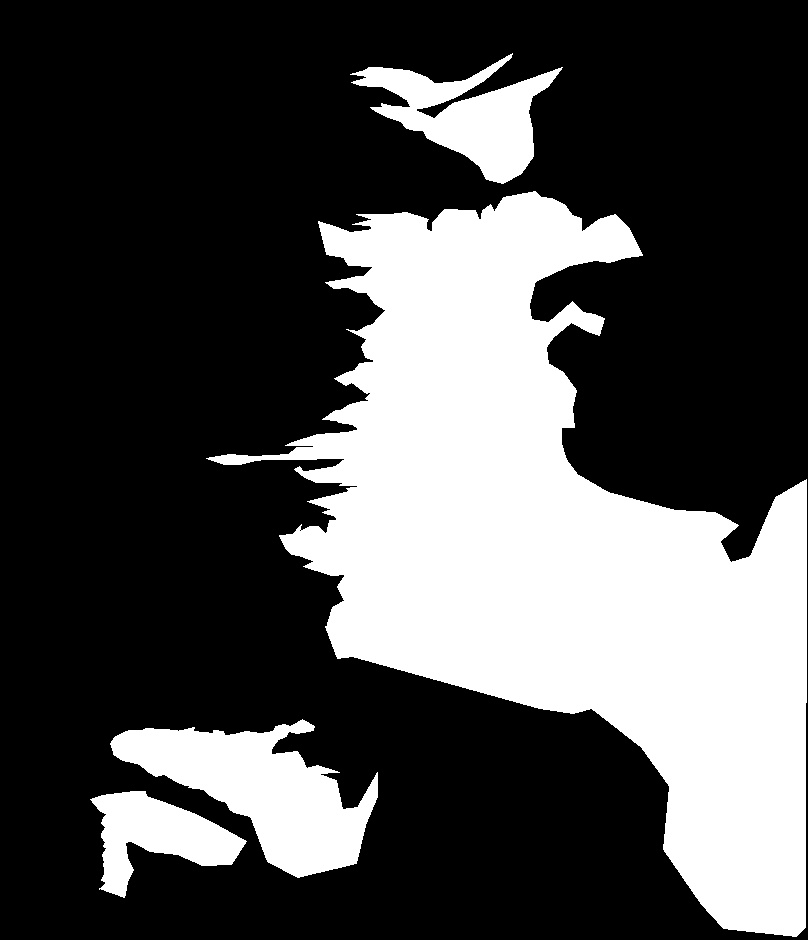Fire: (280, 191, 547, 661), (97, 725, 279, 876), (347, 63, 497, 143)
